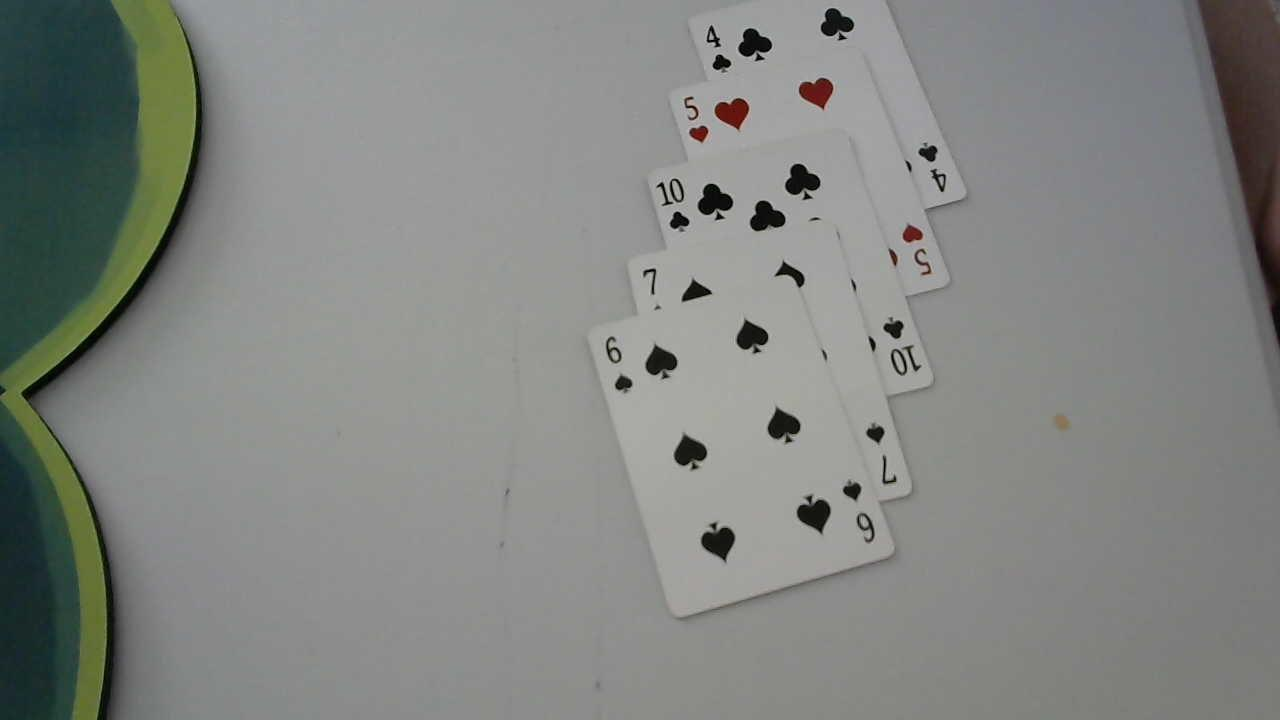10C: (877, 311, 925, 381), (654, 176, 698, 237)
4C: (913, 137, 960, 198), (701, 20, 739, 77)
5H: (901, 220, 940, 280), (679, 92, 713, 148)
6S: (600, 328, 640, 397), (840, 475, 878, 545)
7S: (861, 418, 901, 488)
